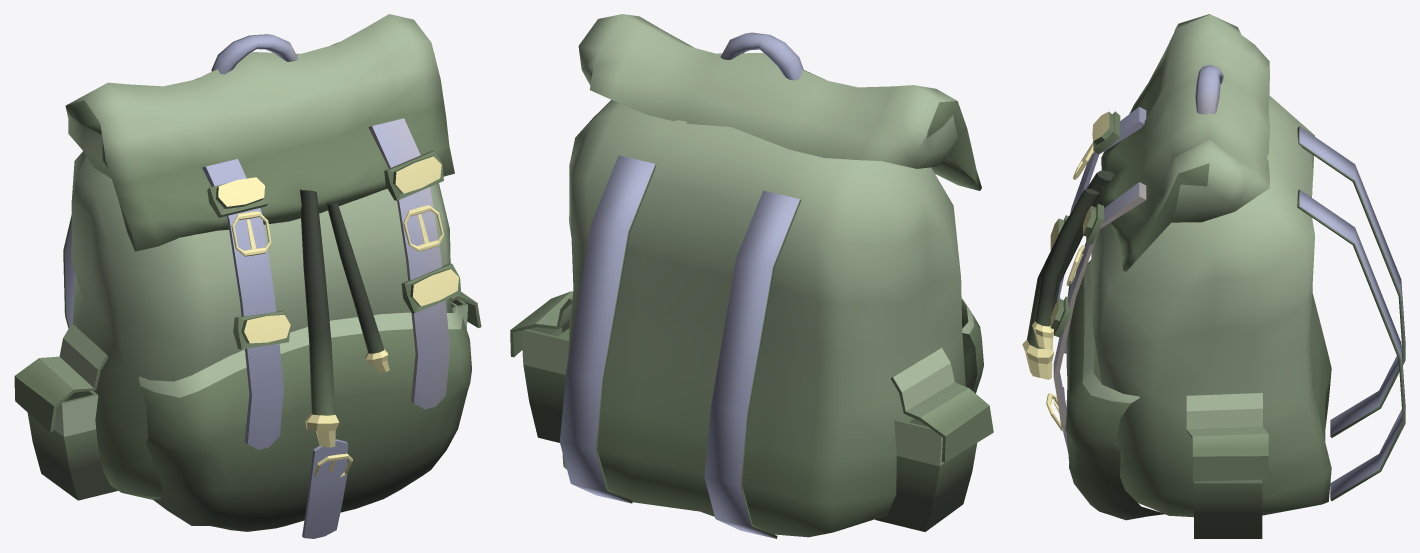
The model's file is SM_BackPack_09.fbx.
The picture shows the model from 3 angles, left to right: view 1: azimuth 30°, elevation 25°; view 2: azimuth 150°, elevation 25°; view 3: azimuth 270°, elevation 25°; orthographic projection. The views are drawn at different scales.
Visible parts, largest first — view 1: SM_BackPack_09; view 2: SM_BackPack_09; view 3: SM_BackPack_09.
Boxes of the visible parts, x1,y1,x2,y2 form: SM_BackPack_09: [14, 14, 481, 538]; SM_BackPack_09: [510, 14, 993, 538]; SM_BackPack_09: [1022, 14, 1405, 538].
Bounding box in the file's own units: 149 × 149 × 124.
